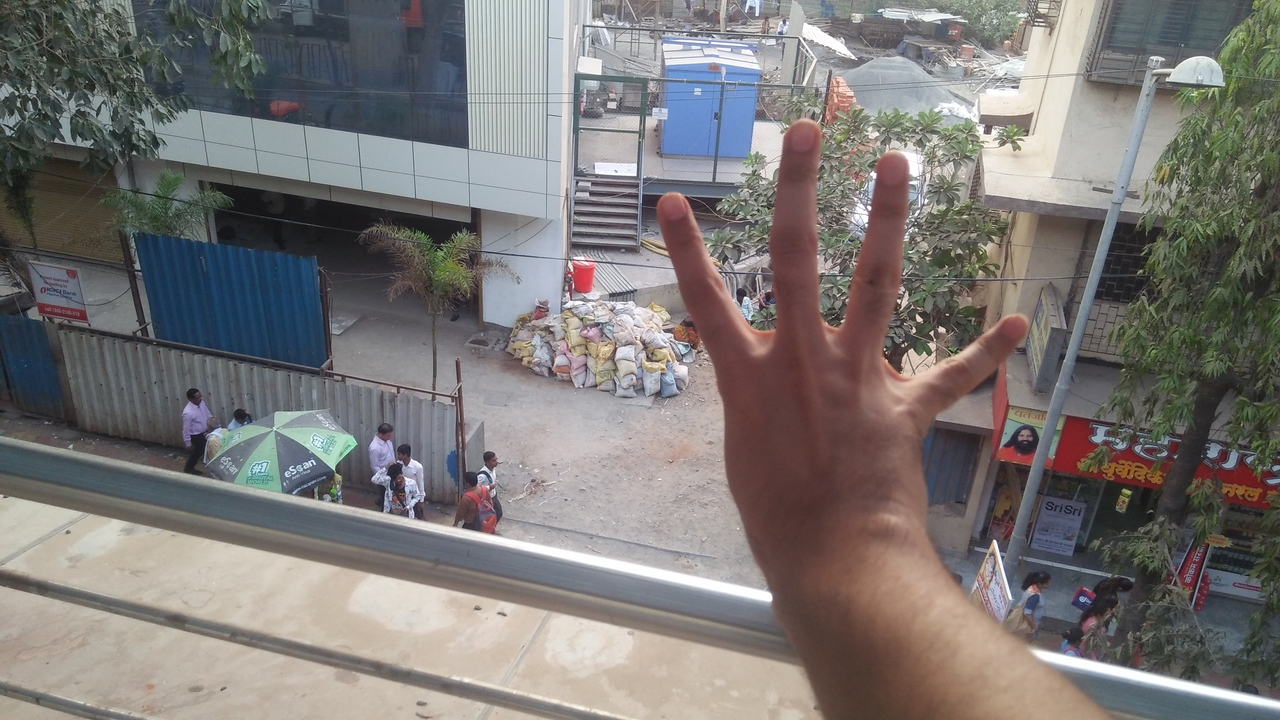fingertip: (982, 304, 1042, 356), (874, 138, 920, 190), (780, 110, 828, 158), (652, 184, 700, 228)
